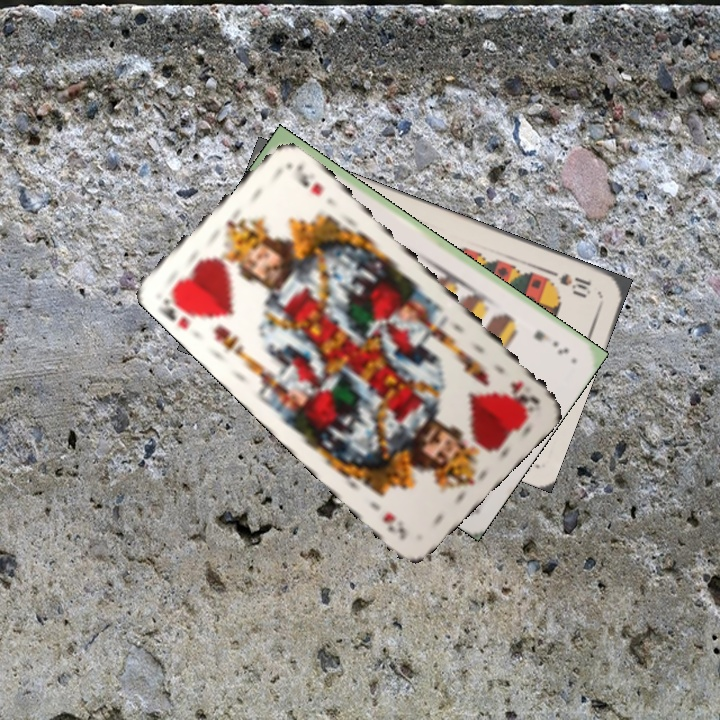E7: (530, 326, 572, 358)
HK: (158, 286, 205, 332), (505, 377, 542, 412)
S10: (544, 265, 594, 298)
